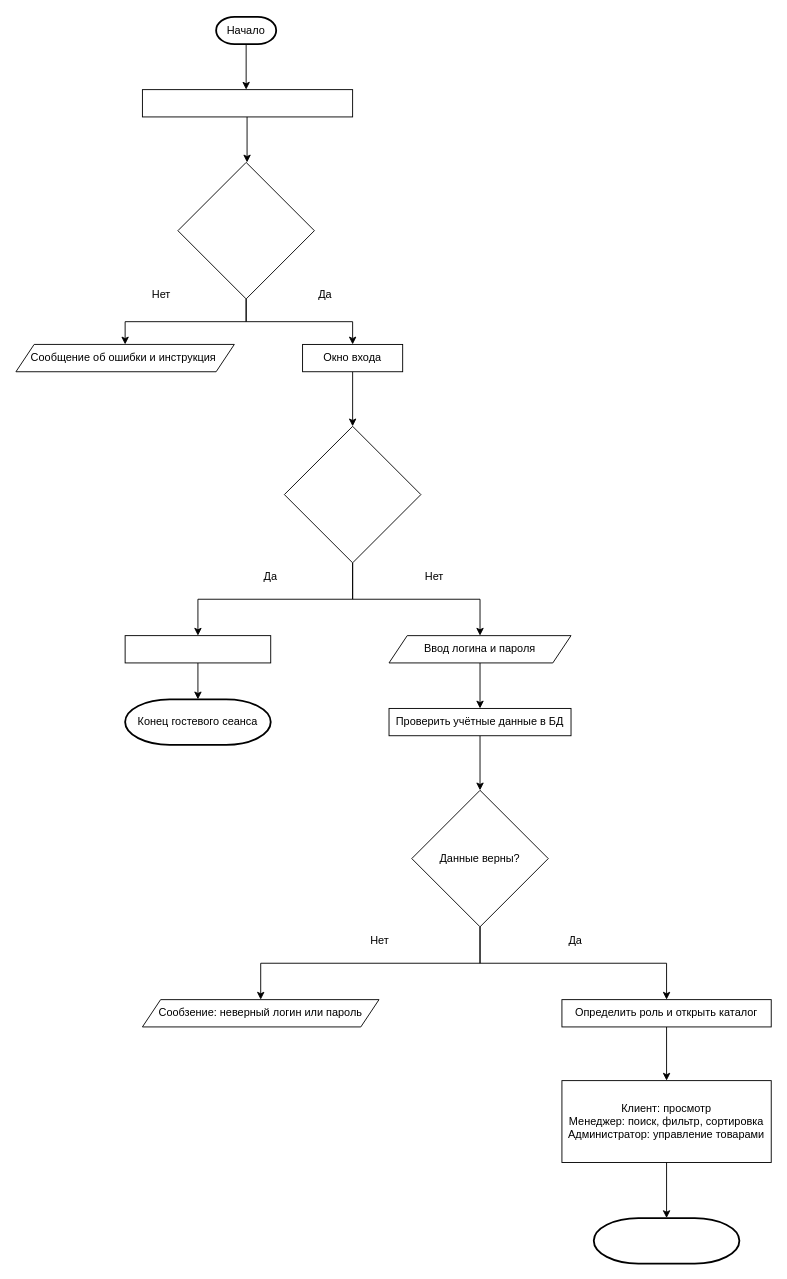
Some shapes in this 787 by 1279 pixel diagram are drawn without their labels. Each missing label, with the box of its shape:
Вход гостем?: (283, 425, 421, 563)
Выход ⮕ окно входа: (592, 1217, 740, 1264)
Запуск приложения и подключение к БД: (142, 89, 353, 117)
Каталог: только просмотр: (124, 635, 271, 663)
Подключение доступно?: (177, 162, 314, 299)
